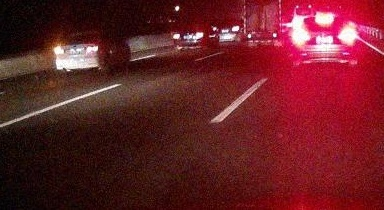L_light: (294, 31, 310, 43), (53, 45, 66, 55), (173, 33, 181, 39)
R_light: (340, 30, 356, 43), (86, 45, 100, 54), (196, 33, 205, 39)
T_light: (316, 16, 333, 25), (78, 32, 89, 36), (188, 24, 195, 27)
night-brake: (293, 15, 358, 67)
night-left: (53, 29, 108, 76)
night-no: (173, 23, 208, 51)
